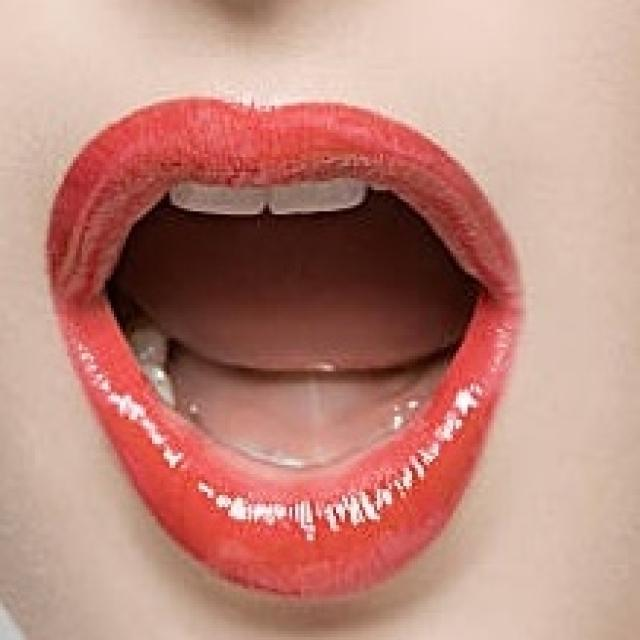open-mouth: (41, 90, 526, 600)
